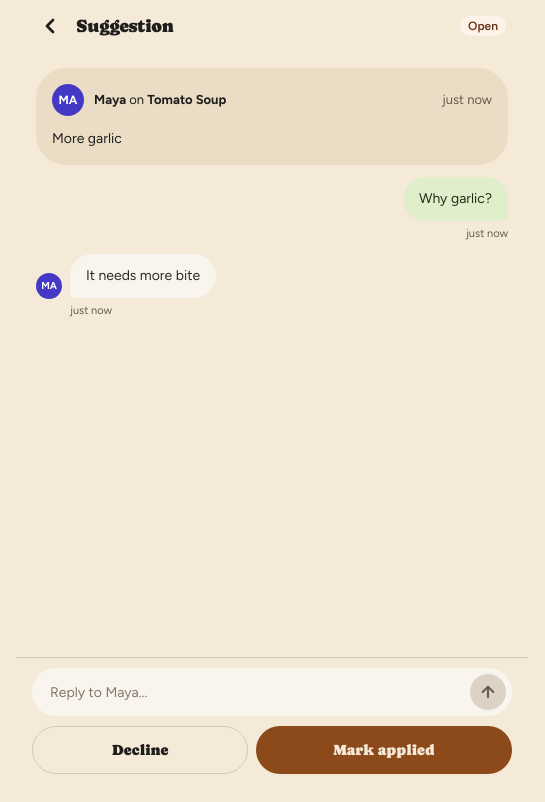
SuggestionThreadPage › shows the generic message for an offline or timed-out send and keeps the draft
Type "Why?" into the field labelled "Reply to Maya" at coordinates (258, 692), box [50,668,466,716]
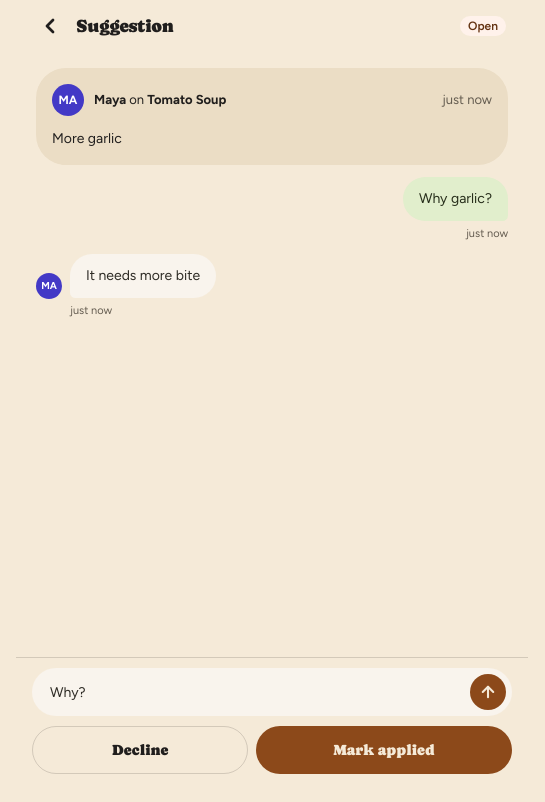
Click the button named "Send reply" at coordinates (488, 692), box [466,670,510,714]
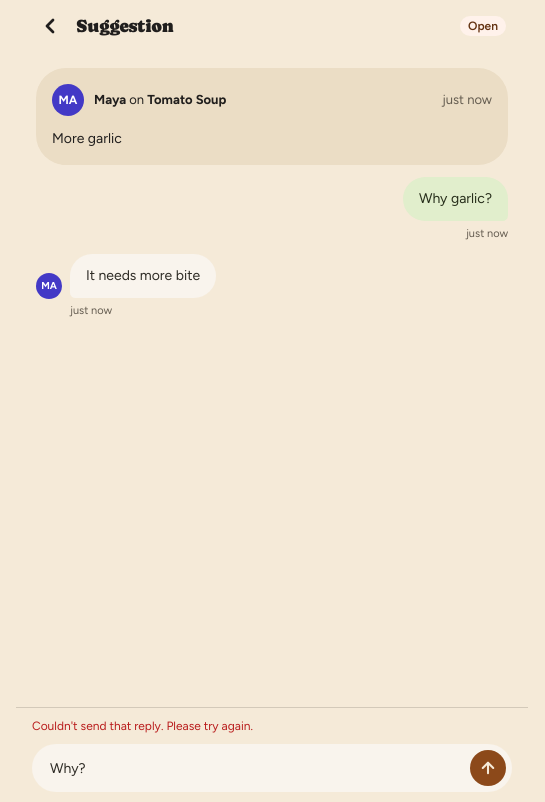
Result: the message "Couldn't send that reply. Please try again." is shown at [32,719,253,733]
